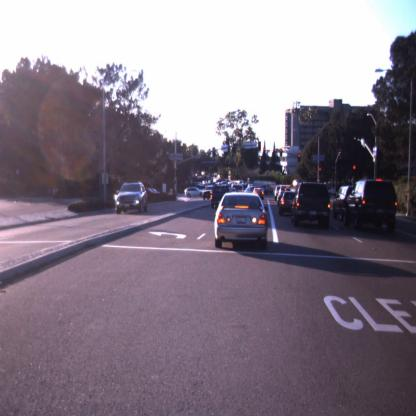trafficlight: (351, 164, 357, 176), (279, 147, 283, 156), (319, 162, 322, 173), (297, 154, 301, 162), (279, 169, 283, 176), (263, 147, 266, 155)
